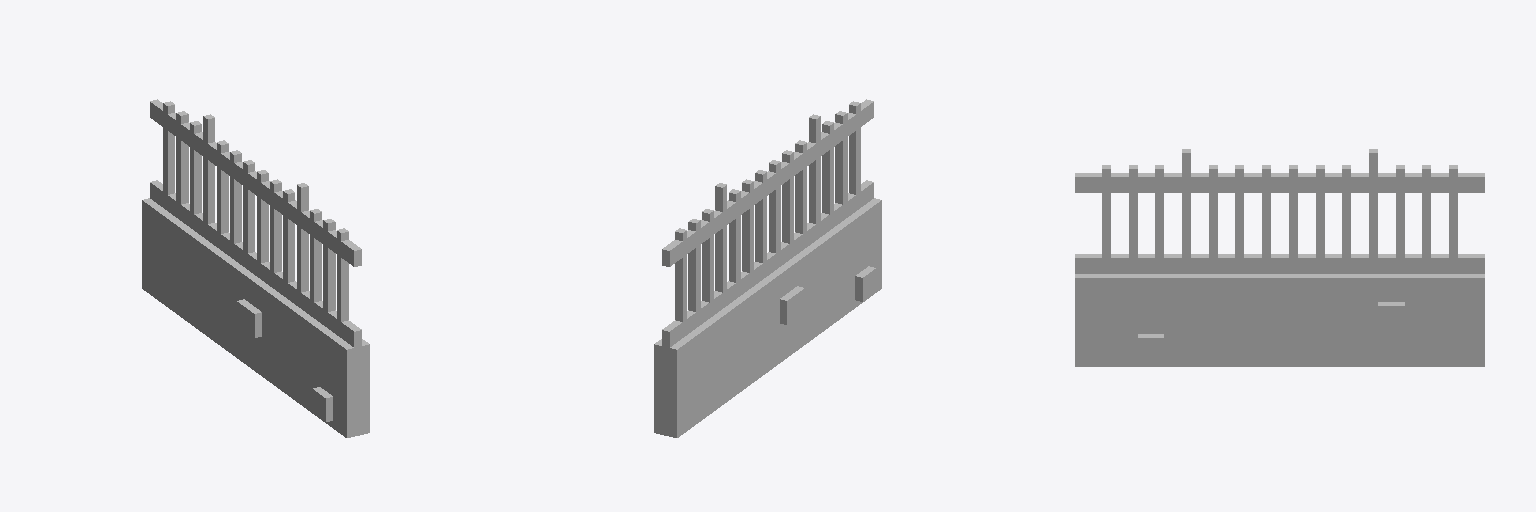
Rendered from Fence_1.obj.
3 renders of one model, left to right at view 1: azimuth 30°, elevation 25°; view 2: azimuth 150°, elevation 25°; view 3: azimuth 270°, elevation 25°, orthographic.
Parts seen in each view (by area): view 1: object 1; view 2: object 1; view 3: object 1.
Part boxes in pixels (x1,y1,x2,y2): object 1: (142, 99, 369, 437); object 1: (654, 99, 881, 437); object 1: (1075, 149, 1484, 366).
Bounding box in the file's own units: 0.5 × 2.6 × 4.6.